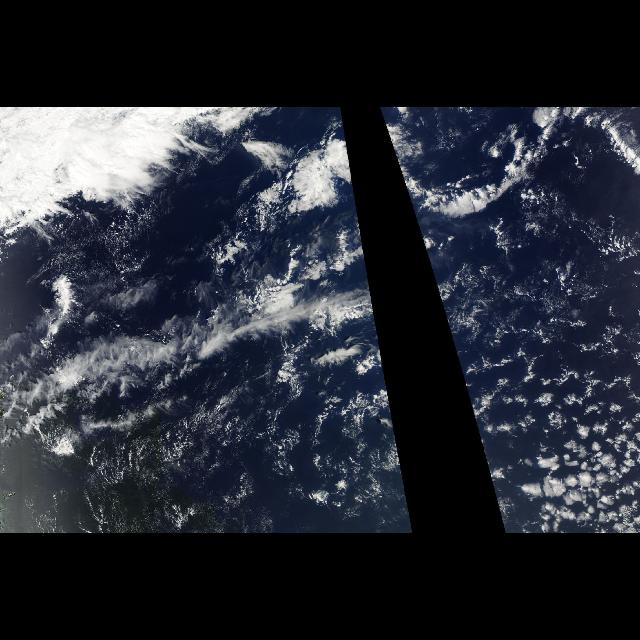Fish: (10, 284, 382, 412), (399, 130, 639, 236)
Flower: (456, 259, 640, 533)
Gravel: (219, 349, 401, 523), (466, 299, 638, 427)
Sugar: (3, 448, 207, 534)
